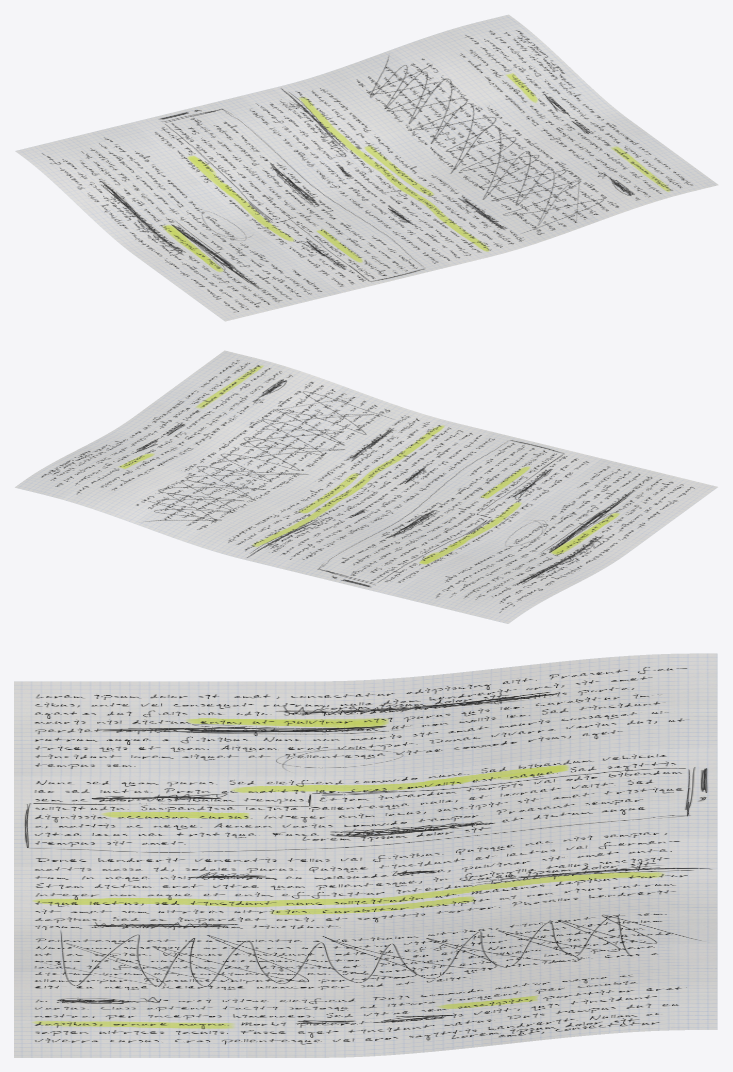
The model's file is Paper 2 NEW.fbx.
3 views of the same model, one above another, from view 1: azimuth 30°, elevation 25°; view 2: azimuth 150°, elevation 25°; view 3: azimuth 270°, elevation 25° (orthographic). The views are drawn at different scales.
Parts seen in each view (by area): view 1: Paper 2; view 2: Paper 2; view 3: Paper 2.
Boxes of the visible parts, x1=… form: Paper 2: x1=15, y1=14, x2=718, y2=321; Paper 2: x1=15, y1=350, x2=717, y2=623; Paper 2: x1=14, y1=653, x2=717, y2=1057.
Size of the model in its own units: 252 by 15.91 by 186.
